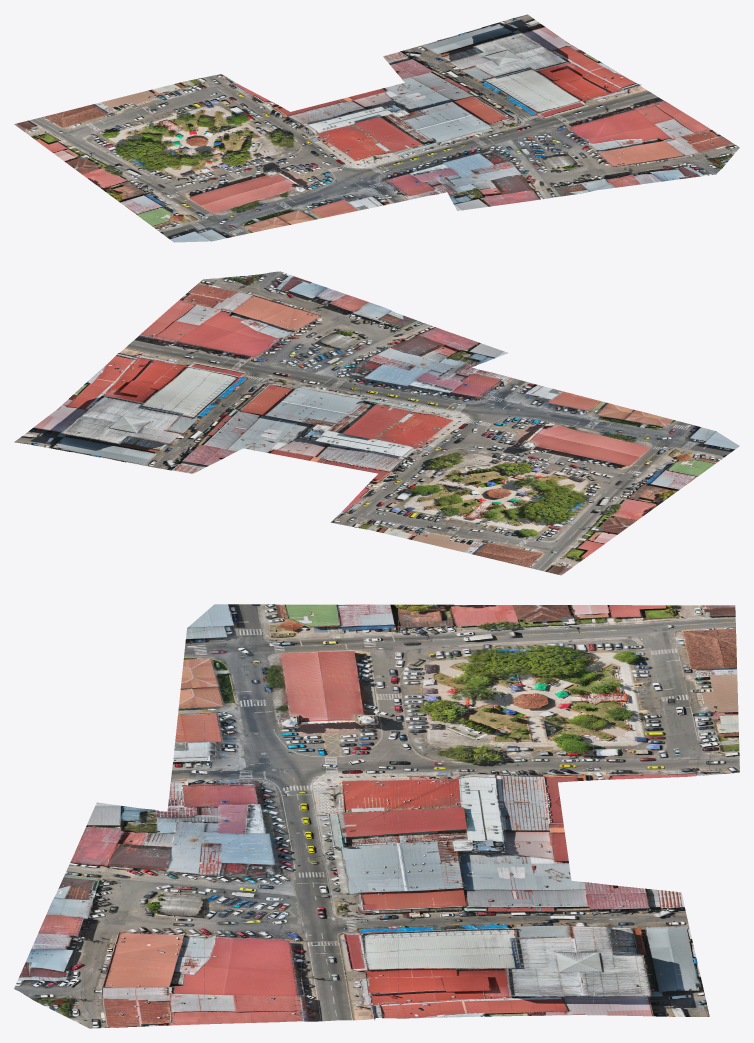
File: terreno.glb
3 views of the same model, one above another, from view 1: azimuth 30°, elevation 25°; view 2: azimuth 150°, elevation 25°; view 3: azimuth 270°, elevation 25° (orthographic). The views are drawn at different scales.
Visible parts, largest first — view 1: Mesh 32, Mesh 9, Mesh 20, Mesh 39, Mesh 46, Mesh 54, Mesh 18, Mesh 62, Mesh 27, Mesh 17, Mesh 33, Mesh 11 (+54 smaller); view 2: Mesh 19, Mesh 52, Mesh 59, Mesh 60, Mesh 47, Mesh 55, Mesh 63, Mesh 68, Mesh 10, Mesh 40, Mesh 13, Mesh 17 (+53 smaller); view 3: Mesh 26, Mesh 64, Mesh 45, Mesh 71, Mesh 24, Mesh 23, Mesh 33, Mesh 38, Mesh 53, Mesh 68, Mesh 34, Mesh 72 (+58 smaller).
Part boxes in pixels (box(x1,y1,x2,y2)): Mesh 32: box(282, 119, 363, 154); Mesh 9: box(66, 112, 147, 148); Mesh 20: box(238, 186, 319, 222); Mesh 39: box(364, 130, 445, 164); Mesh 46: box(416, 118, 497, 152); Mesh 54: box(469, 106, 549, 140); Mesh 18: box(178, 144, 259, 178); Mesh 62: box(521, 94, 602, 128); Mesh 27: box(290, 176, 371, 210); Mesh 17: box(148, 122, 229, 156); Mesh 33: box(312, 142, 393, 176); Mesh 11: box(126, 156, 207, 191); Mesh 19: box(520, 428, 609, 468); Mesh 52: box(168, 412, 257, 451); Mesh 59: box(77, 425, 166, 463); Mesh 60: box(110, 399, 200, 438); Mesh 47: box(324, 352, 413, 390); Mesh 55: box(267, 339, 356, 377); Mesh 63: box(209, 326, 298, 364); Mesh 68: box(54, 386, 142, 424); Mesh 10: box(511, 492, 600, 531); Mesh 40: box(381, 366, 470, 404); Mesh 13: box(610, 419, 700, 457); Mesh 17: box(454, 478, 543, 515); Mesh 26: box(301, 715, 398, 760); Mesh 64: box(107, 927, 204, 970); Mesh 45: box(399, 842, 495, 886); Mesh 71: box(204, 969, 301, 1012); Mesh 24: box(496, 717, 593, 761); Mesh 23: box(593, 717, 690, 761); Mesh 33: box(301, 760, 398, 803); Mesh 38: box(399, 799, 495, 843); Mesh 53: box(399, 885, 495, 929); Mesh 68: box(496, 971, 593, 1015); Mesh 34: box(204, 760, 301, 803); Mesh 72: box(107, 970, 204, 1012).
Bounding box in the file's own units: 264 × 4.64 × 195.
79 materials, 79 textured.
